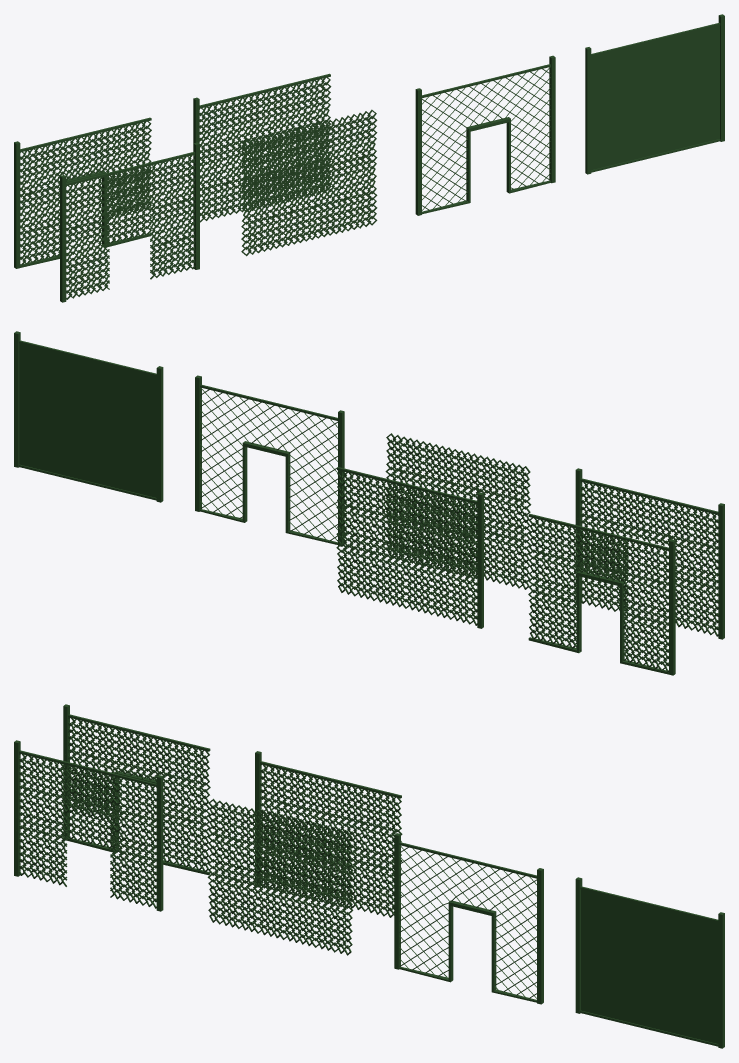
Rendered from footballFieldDoor.glb.
3 renders of one model, top to bottom at view 1: azimuth 30°, elevation 25°; view 2: azimuth 150°, elevation 25°; view 3: azimuth 330°, elevation 25°, orthographic. The views are drawn at different scales.
Parts seen in each view (by area): view 1: Plane.001, IgralishteFence, IgralishteDoor, Cube.002, Cube.006, Cube.093, Cube.048, Cube.005, Cube.139, Cube.007; view 2: Plane.001, IgralishteFence, IgralishteDoor, Cube.002, Cube.006, Cube.093, Cube.005, Cube.048, Cube.139; view 3: Plane.001, IgralishteFence, IgralishteDoor, Cube.002, Cube.048, Cube.005, Cube.093, Cube.006, Cube.139.
Boxes of the visible parts, x1,y1,x2,y2 form: Plane.001: (591, 25, 719, 169); IgralishteFence: (193, 73, 331, 222); IgralishteDoor: (14, 117, 151, 268); Cube.002: (415, 55, 555, 215); Cube.006: (585, 47, 591, 174); Cube.093: (60, 175, 66, 302); Cube.048: (193, 142, 199, 269); Cube.005: (718, 14, 724, 141); Cube.139: (66, 152, 195, 185); Cube.007: (591, 23, 720, 56); Plane.001: (19, 343, 156, 497); IgralishteFence: (336, 467, 483, 628); IgralishteDoor: (528, 514, 675, 675); Cube.002: (195, 375, 344, 546); Cube.006: (156, 366, 163, 502); Cube.093: (718, 503, 724, 639); Cube.005: (14, 331, 20, 467); Cube.048: (575, 468, 582, 601); Cube.139: (580, 478, 718, 514); Plane.001: (581, 889, 718, 1043); IgralishteFence: (255, 751, 402, 917); IgralishteDoor: (63, 704, 210, 875); Cube.002: (394, 833, 543, 1004); Cube.048: (156, 775, 163, 911); Cube.005: (718, 912, 724, 1048); Cube.093: (14, 740, 20, 876); Cube.006: (575, 877, 582, 1013); Cube.139: (19, 750, 156, 786).
Bounding box in the file's own units: 66.5 × 12.05 × 8.45.
